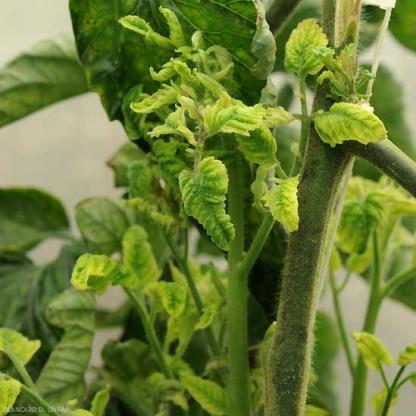Tomato leaf: (179, 145, 246, 254), (260, 157, 308, 255), (314, 93, 388, 146), (209, 102, 290, 148)
